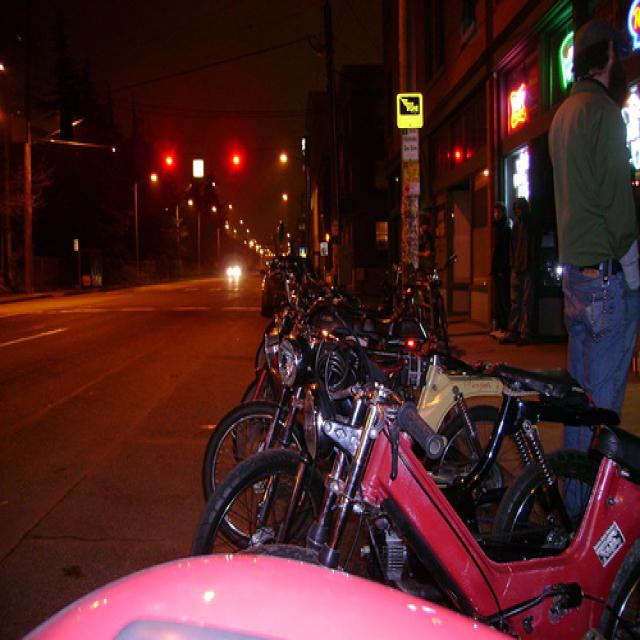Motorbike: (279, 362, 639, 640), (226, 238, 455, 454)
